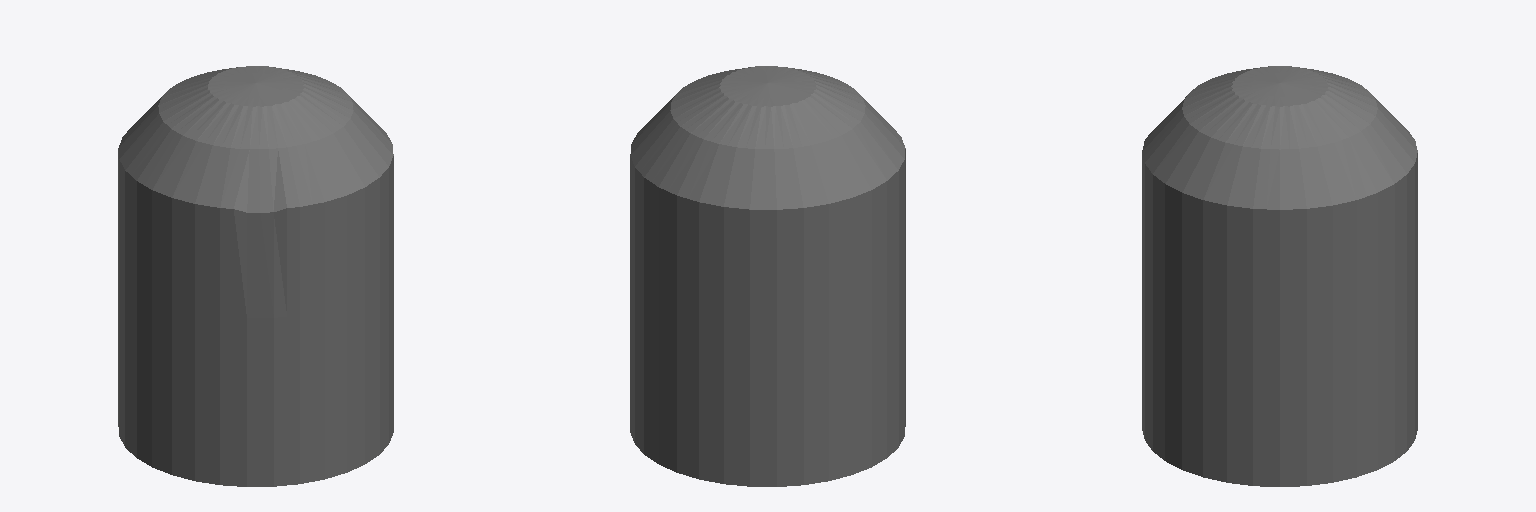
The model's file is bullet.obj.
The picture shows the model from 3 angles: view 1: azimuth 30°, elevation 25°; view 2: azimuth 150°, elevation 25°; view 3: azimuth 270°, elevation 25°; orthographic projection.
Visible parts, largest first — view 1: Cylinder; view 2: Cylinder; view 3: Cylinder.
Boxes of the visible parts, box(x1,y1,x2,y2) form: Cylinder: box(118, 66, 393, 486); Cylinder: box(630, 66, 905, 486); Cylinder: box(1142, 66, 1417, 486).
Size of the model in its own units: 2 by 2.77 by 2.